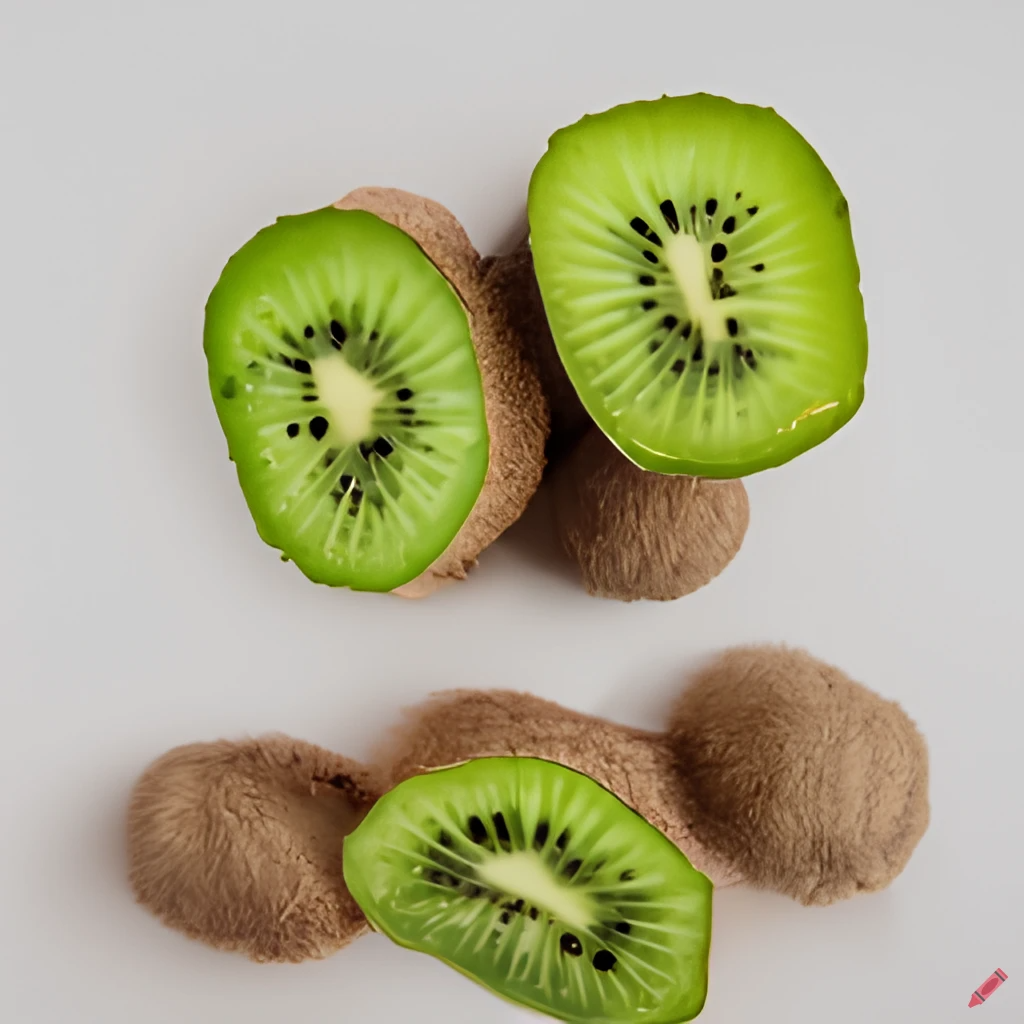Kiwi: (499, 58, 864, 500), (660, 602, 948, 878)
